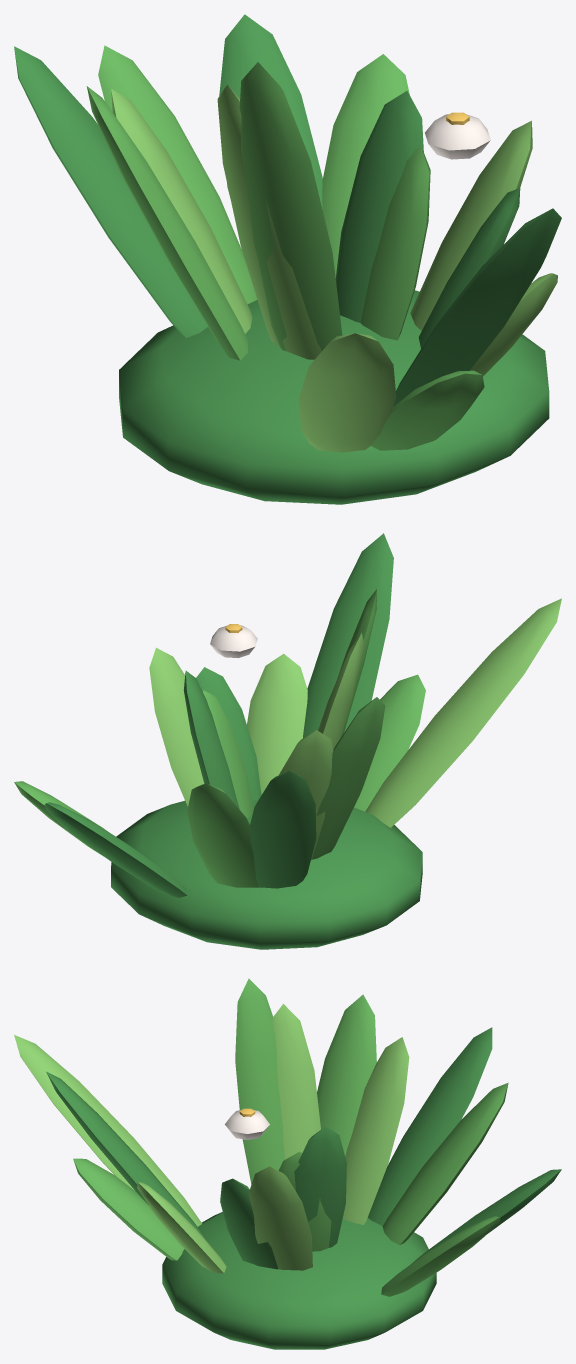
The model's file is grass_tuft.glb.
3 views of the same model, one above another, from view 1: azimuth 30°, elevation 25°; view 2: azimuth 150°, elevation 25°; view 3: azimuth 270°, elevation 25° (orthographic). The views are drawn at different scales.
Visible parts, largest first — view 1: grass_tuft; view 2: grass_tuft; view 3: grass_tuft.
Part boxes in pixels (<box>): grass_tuft: <box>14,14,561,504</box>; grass_tuft: <box>14,533,561,949</box>; grass_tuft: <box>14,978,561,1349</box>.
Bounding box in the file's own units: 0.4842 × 0.5103 × 0.8412.
